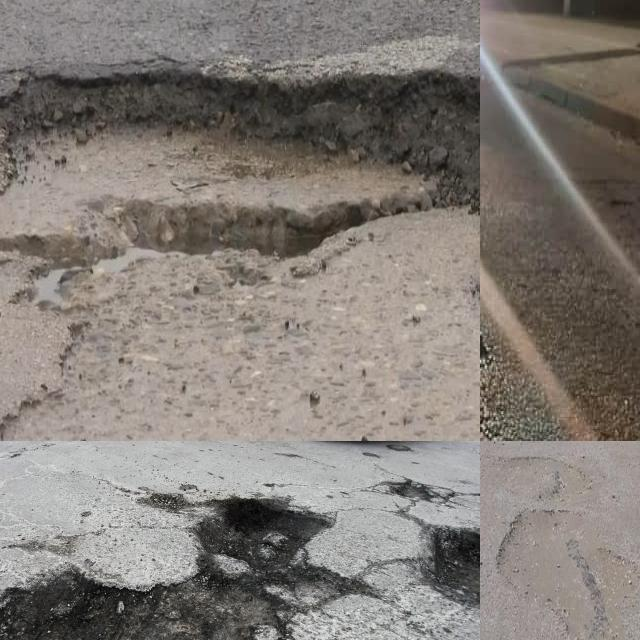Pothole: (0, 25, 480, 439), (0, 208, 480, 441), (0, 72, 480, 204), (0, 499, 321, 640), (85, 192, 430, 256), (494, 508, 640, 640), (201, 35, 466, 80), (429, 529, 480, 609), (0, 238, 111, 265)
